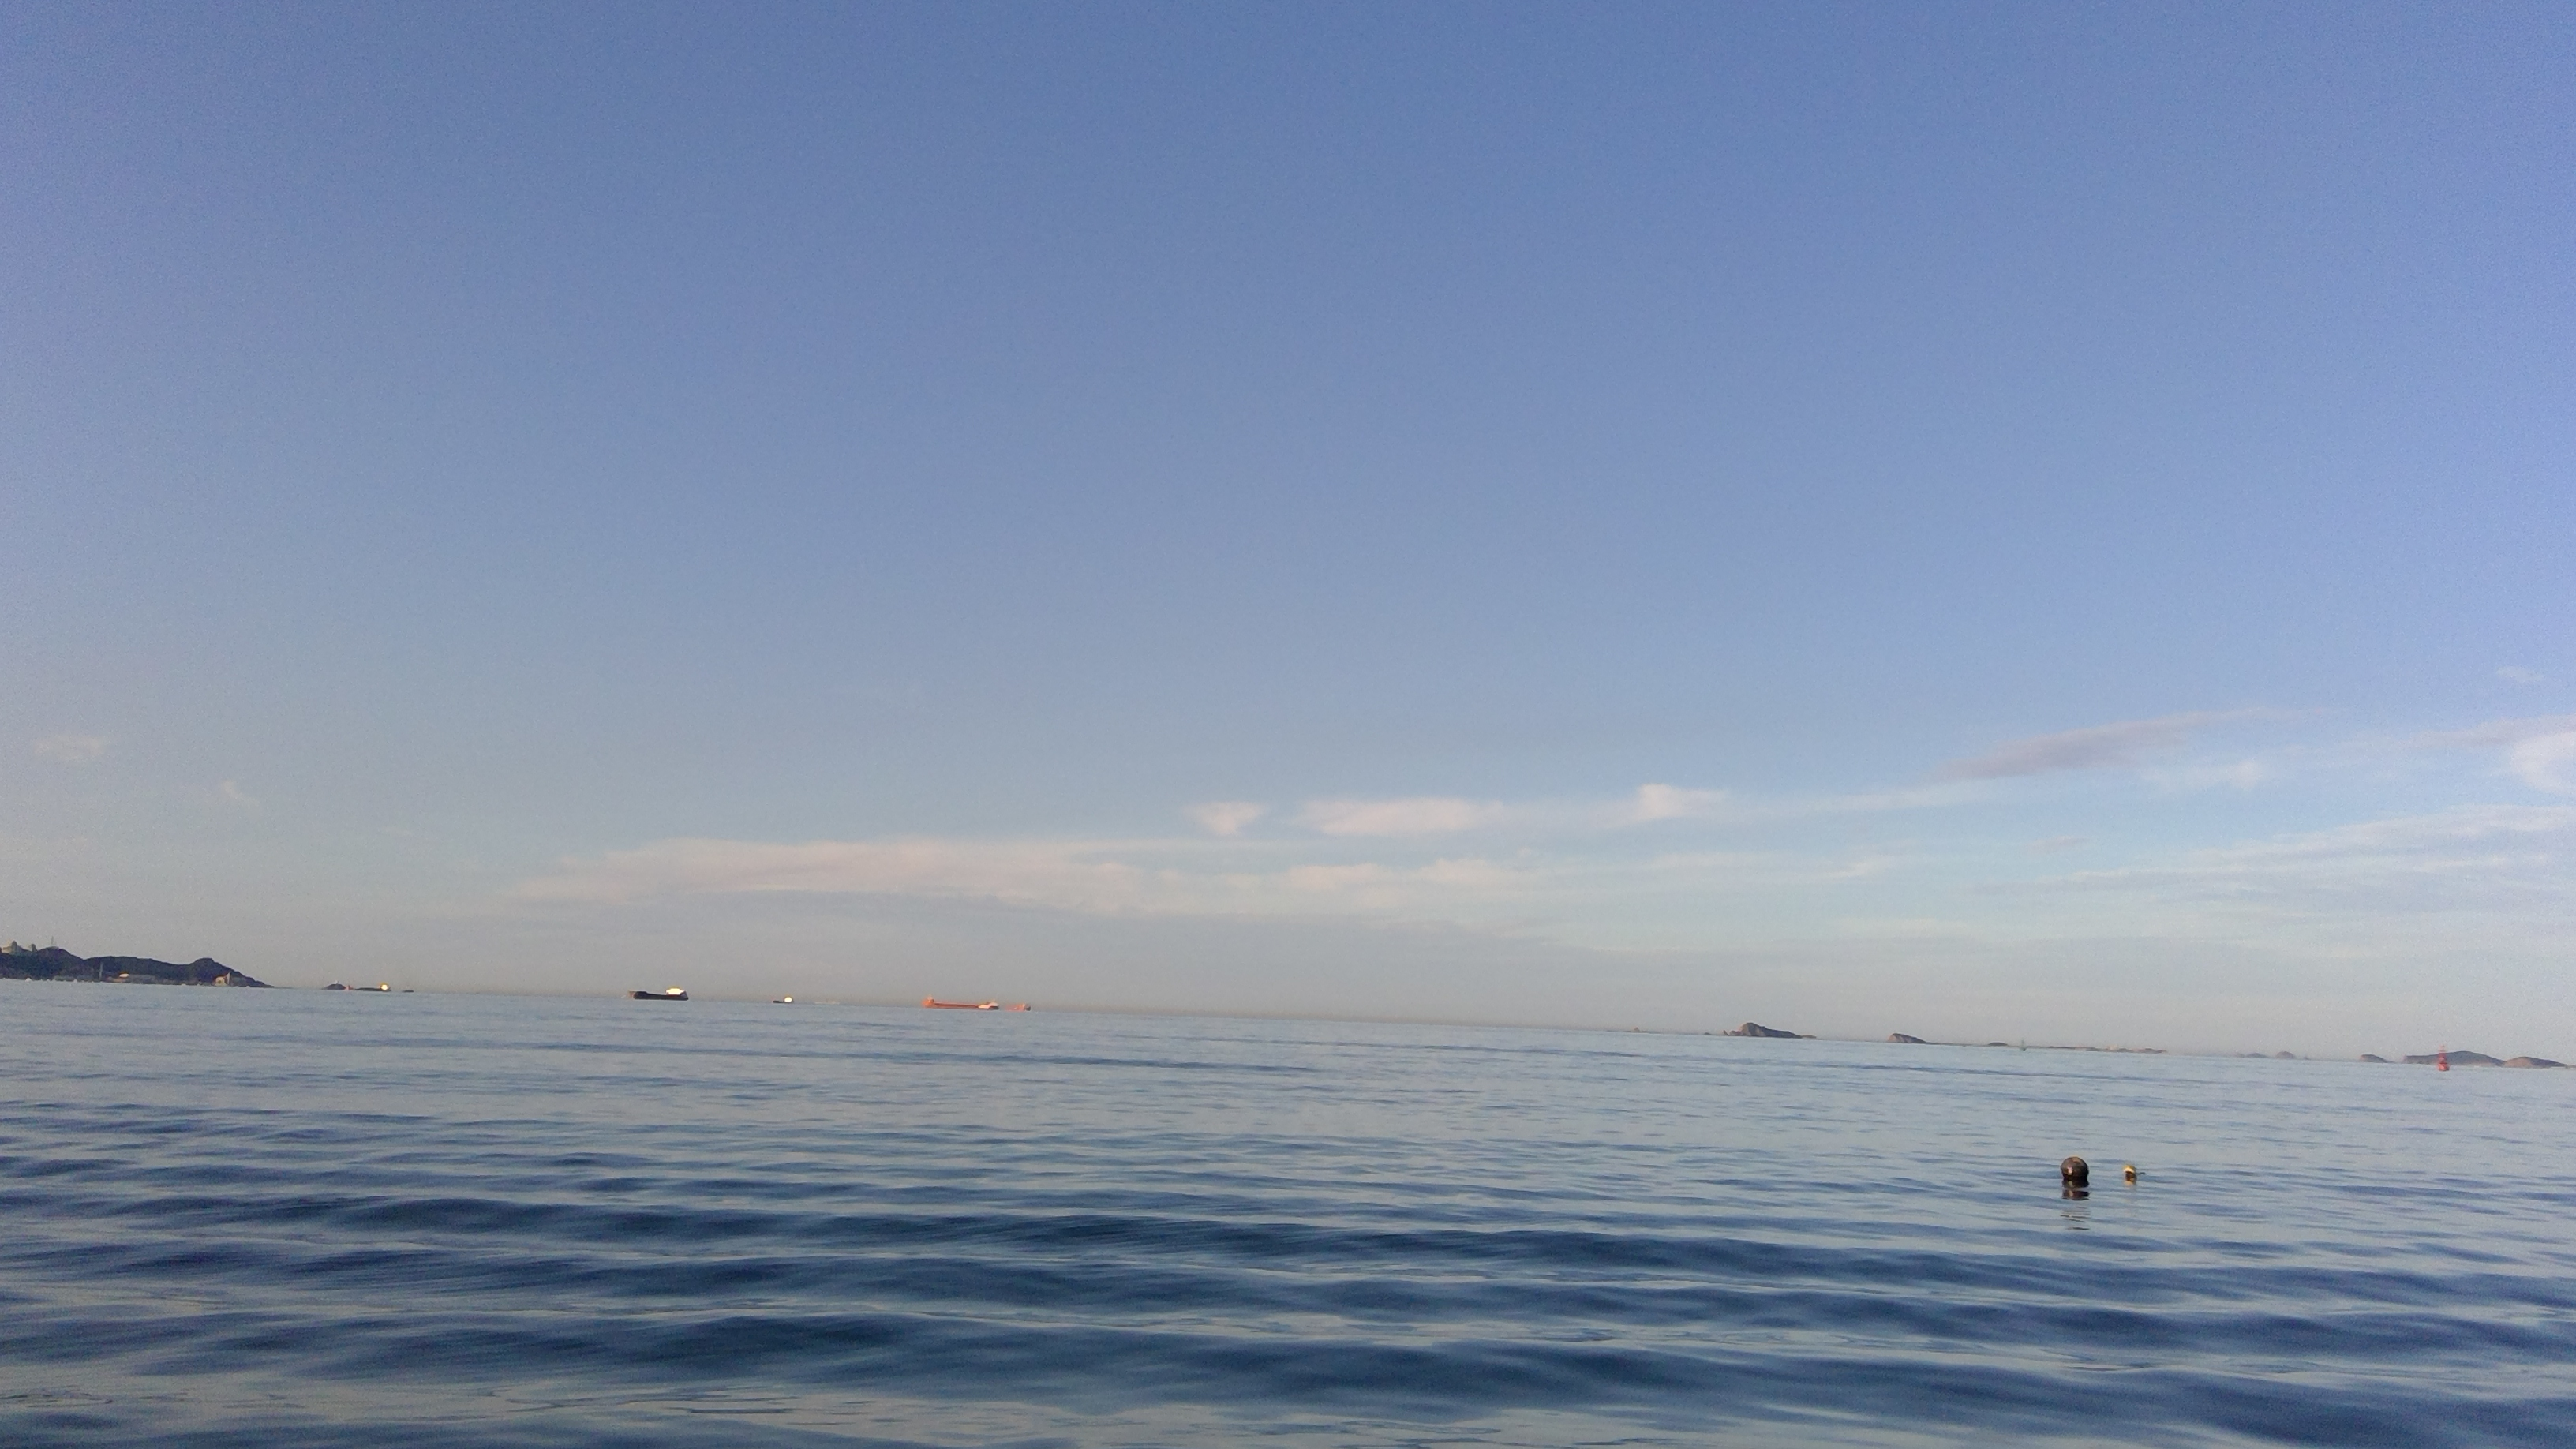ball: (2040, 1139, 2095, 1198), (2114, 1157, 2143, 1194)
buoy: (2431, 1051, 2461, 1077)
platform: (918, 984, 1035, 1023)
rock: (0, 925, 272, 987), (2358, 1031, 2576, 1079), (1709, 1017, 1806, 1049)
ship: (633, 973, 692, 1005)
